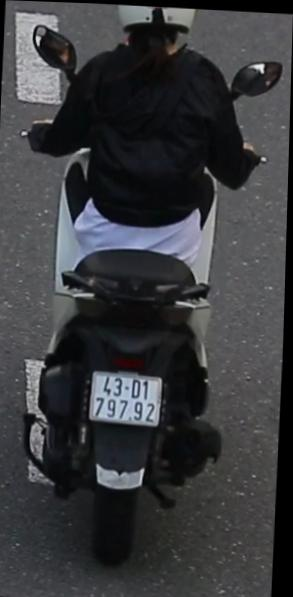LP: (87, 364, 169, 430)
